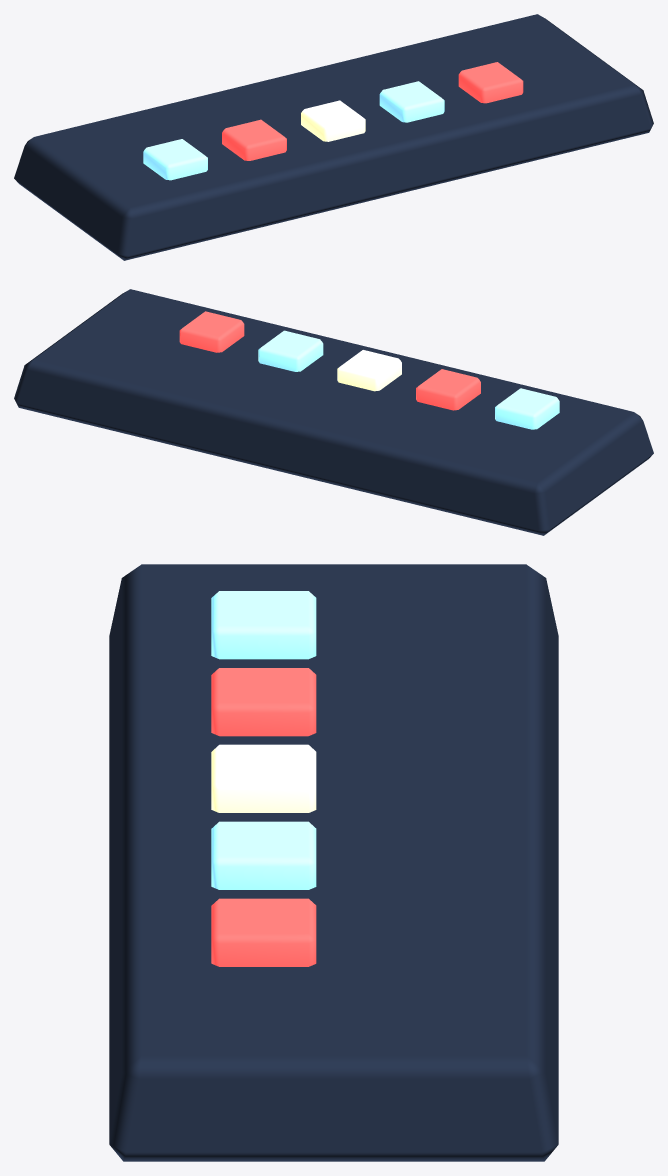
File: control_switcher.glb
3 renders of one model, top to bottom at view 1: azimuth 30°, elevation 25°; view 2: azimuth 150°, elevation 25°; view 3: azimuth 270°, elevation 25°, orthographic. The views are drawn at different scales.
Parts seen in each view (by area): view 1: control_switcher; view 2: control_switcher; view 3: control_switcher.
Part boxes in pixels (bbox=[...]): control_switcher: bbox=[14, 14, 653, 260]; control_switcher: bbox=[14, 289, 653, 535]; control_switcher: bbox=[109, 564, 558, 1161].
Size of the model in its own units: 1.77 by 0.1975 by 0.6418.
